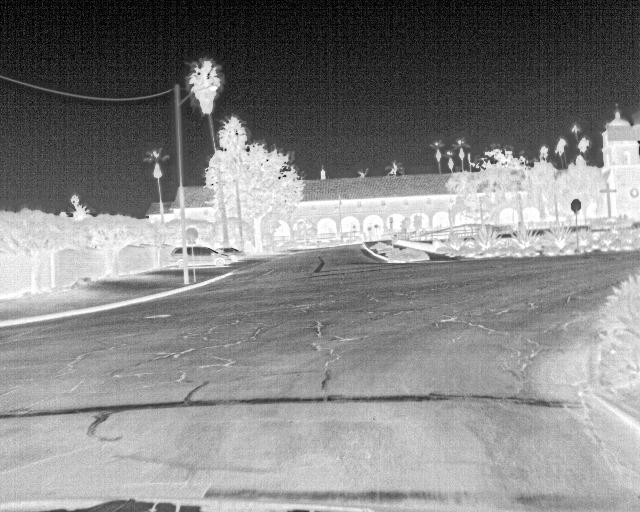car: (188, 243, 231, 267), (211, 248, 246, 263), (170, 244, 187, 270)
